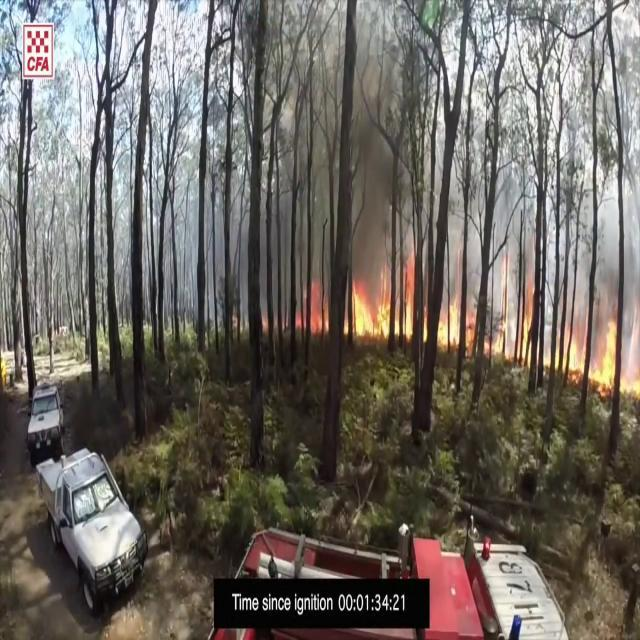Fire: (567, 290, 640, 409), (348, 264, 398, 346), (436, 282, 462, 348)
Smoke: (260, 5, 402, 286)
